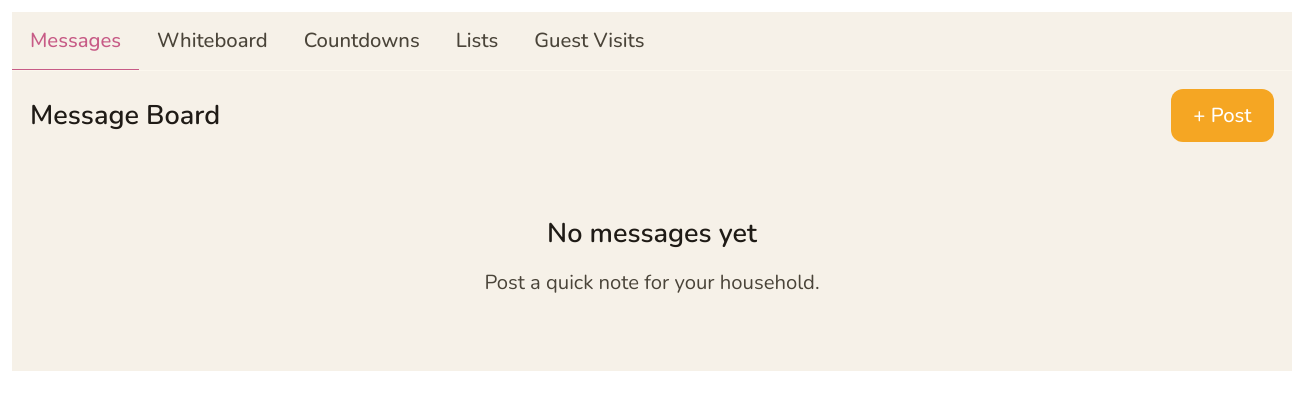
BoardPage › switches to Countdowns tab when clicked
Step 1. Click the tab "Countdowns" → (362, 42), box 286,12 -> 438,71
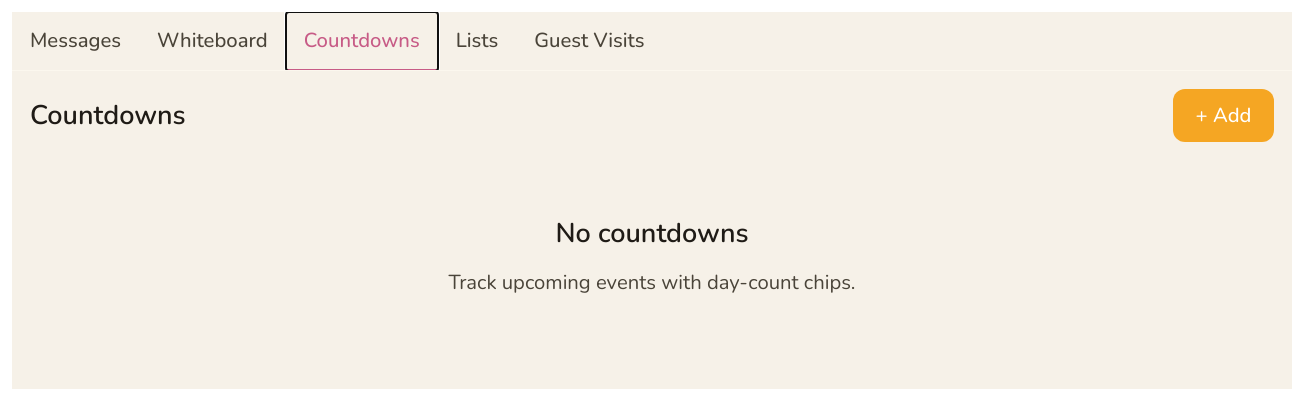
Check: the heading "No countdowns" is shown, box 555,214 -> 749,255
